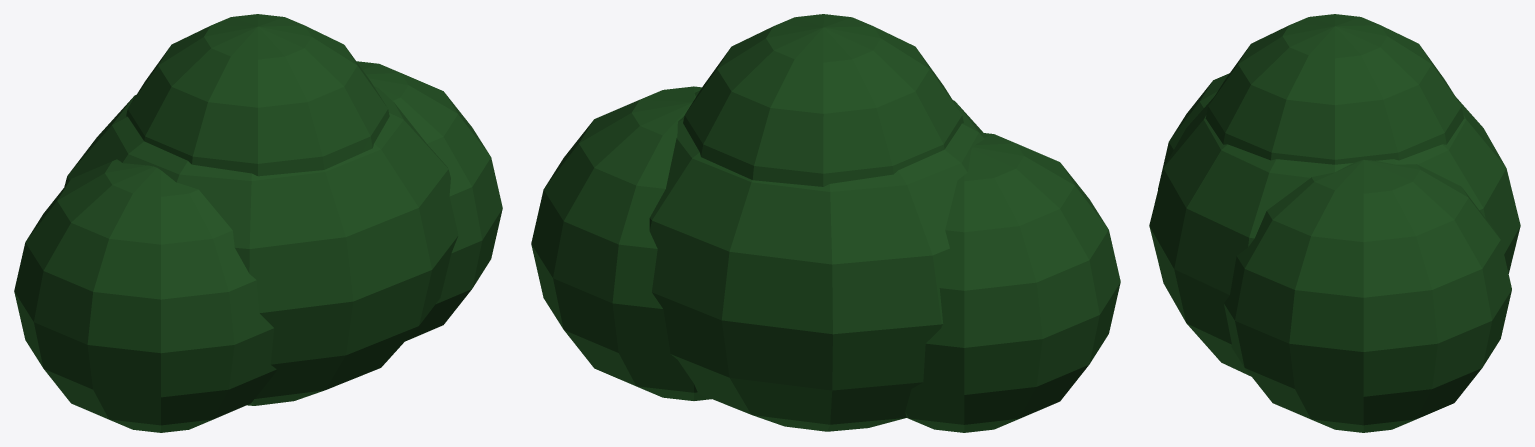
Rendered from Bush_Round.obj.
The picture shows the model from 3 angles, left to right: view 1: azimuth 30°, elevation 25°; view 2: azimuth 150°, elevation 25°; view 3: azimuth 270°, elevation 25°; orthographic projection. The views are drawn at different scales.
Parts seen in each view (by area): view 1: LeafClump; view 2: LeafClump; view 3: LeafClump.
Part boxes in pixels (x1,y1,x2,y2): LeafClump: (14, 14, 502, 432); LeafClump: (531, 14, 1120, 432); LeafClump: (1149, 14, 1520, 432).
Bounding box in the file's own units: 1.89 × 1.35 × 1.3.
